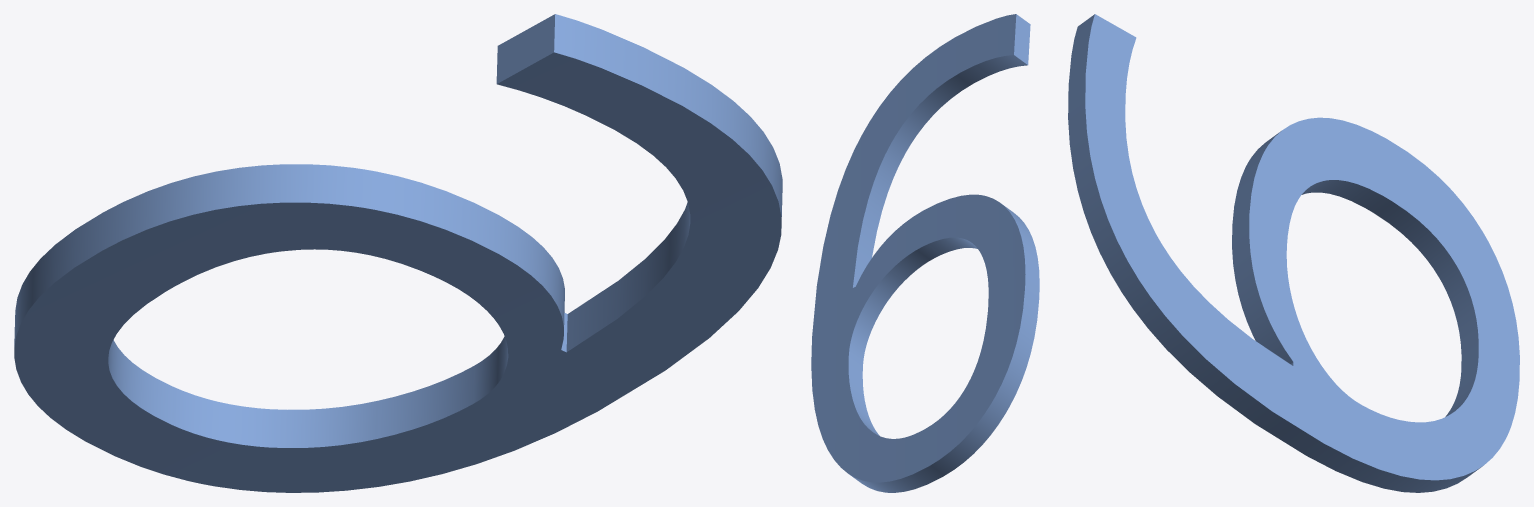
Rendered from New_Number_6.gltf.
3 views of the same model, side by side, from view 1: azimuth 30°, elevation 25°; view 2: azimuth 150°, elevation 25°; view 3: azimuth 270°, elevation 25° (orthographic). The views are drawn at different scales.
Parts seen in each view (by area): view 1: Part 375; view 2: Part 375; view 3: Part 375.
Part boxes in pixels (x1=…): Part 375: x1=14, y1=14, x2=782, y2=492; Part 375: x1=811, y1=14, x2=1039, y2=492; Part 375: x1=1068, y1=14, x2=1519, y2=492.
Bounding box in the file's own units: 0.00388 × 0.00468 × 0.00418.
